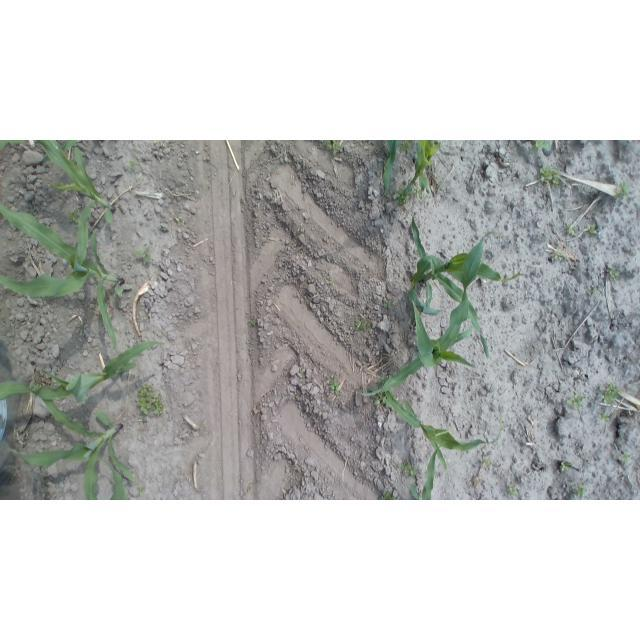Maize: (357, 228, 504, 401), (0, 197, 126, 355), (407, 214, 527, 363), (3, 382, 138, 500), (0, 338, 168, 410), (25, 140, 119, 266), (383, 380, 506, 469), (379, 141, 444, 212), (408, 436, 450, 500), (0, 140, 24, 151)
Weeds: (135, 381, 165, 418), (601, 379, 622, 407), (395, 458, 418, 479), (539, 166, 561, 187), (325, 376, 344, 397), (566, 392, 586, 411), (611, 181, 629, 202), (530, 140, 552, 156), (135, 245, 154, 263), (504, 481, 523, 499), (571, 481, 589, 499), (353, 316, 372, 332), (325, 140, 344, 156), (66, 206, 81, 224), (395, 187, 409, 206), (375, 393, 391, 409), (376, 372, 392, 388), (564, 220, 579, 237), (133, 479, 147, 497), (378, 488, 398, 500), (618, 451, 633, 466), (559, 458, 574, 473), (607, 266, 621, 282), (551, 246, 565, 262), (480, 455, 495, 469), (399, 141, 413, 156), (586, 222, 599, 238), (412, 185, 425, 199), (125, 158, 138, 172), (599, 410, 611, 424), (295, 368, 308, 379), (385, 298, 394, 310), (174, 215, 184, 225), (590, 288, 600, 297), (629, 245, 637, 256), (326, 275, 334, 286), (251, 317, 258, 327)
